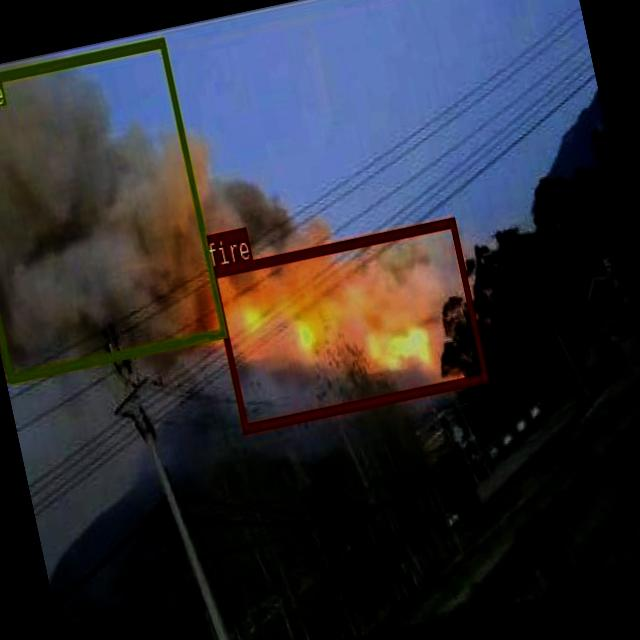fire: (208, 216, 488, 433)
smoke: (0, 36, 226, 381)
